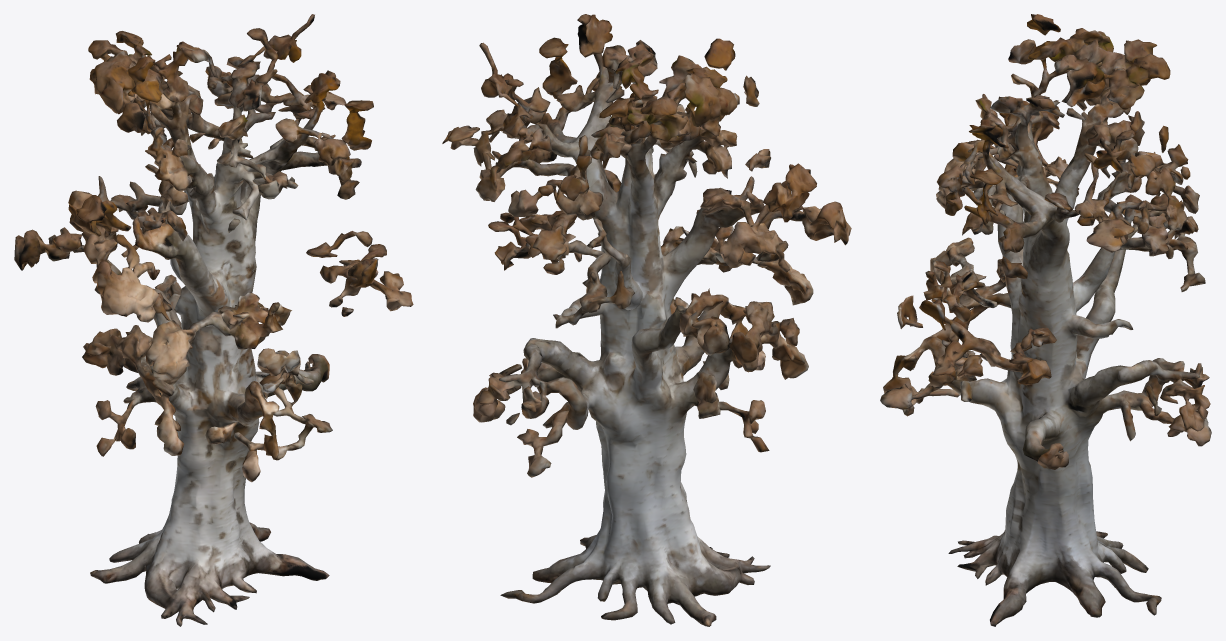
Rendered from AI_Sycamore02.fbx.
3 views of the same model, side by side, from view 1: azimuth 30°, elevation 25°; view 2: azimuth 150°, elevation 25°; view 3: azimuth 270°, elevation 25° (orthographic). The views are drawn at different scales.
Visible parts, largest first — view 1: Mesh1.0; view 2: Mesh1.0; view 3: Mesh1.0.
Part boxes in pixels (x1,y1,x2,y2): Mesh1.0: [14, 14, 413, 626]; Mesh1.0: [442, 14, 851, 626]; Mesh1.0: [880, 14, 1211, 626].
Size of the model in its own units: 122 by 200 by 112.
Materials: 1 (1 with a texture image).
